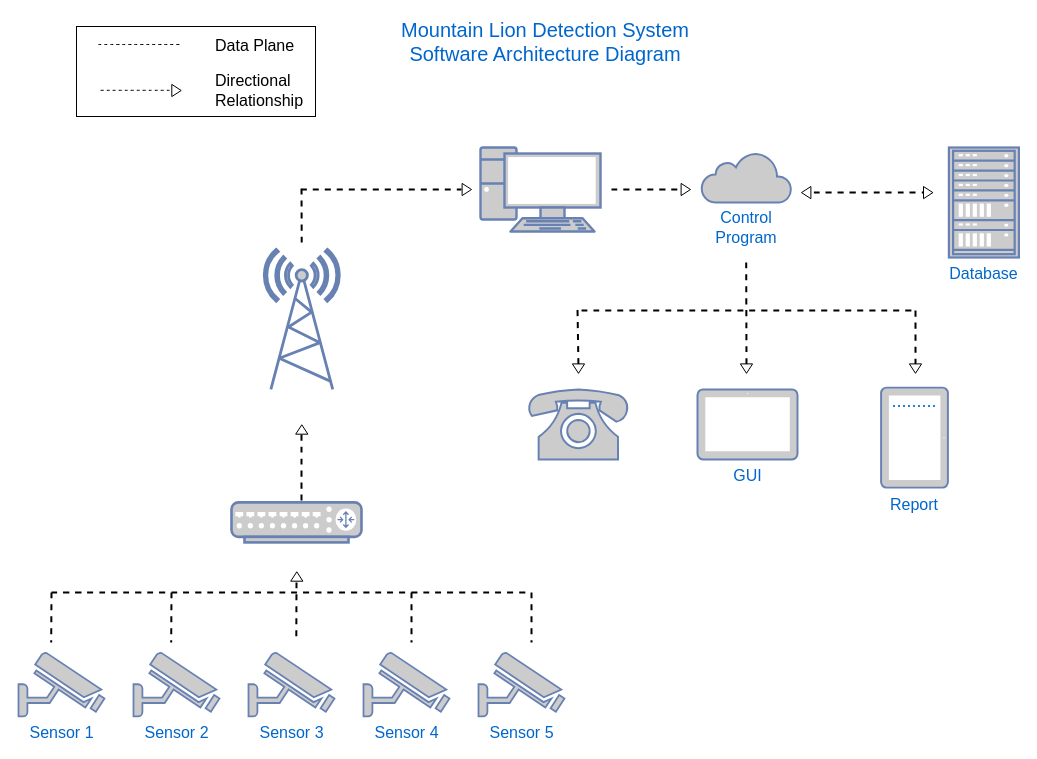
Some shapes in this 1037 by 759 pixel diagram are drawn without their labels. Each missing label, with the box of its shape:
Alarm: (527, 388, 629, 460)
Controlling Computer: (479, 146, 601, 232)
Router: (230, 501, 362, 543)
Signal: (263, 248, 340, 390)
